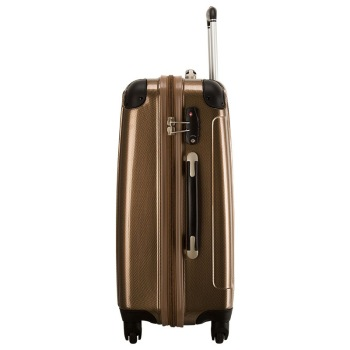luggage: (112, 5, 235, 347)
